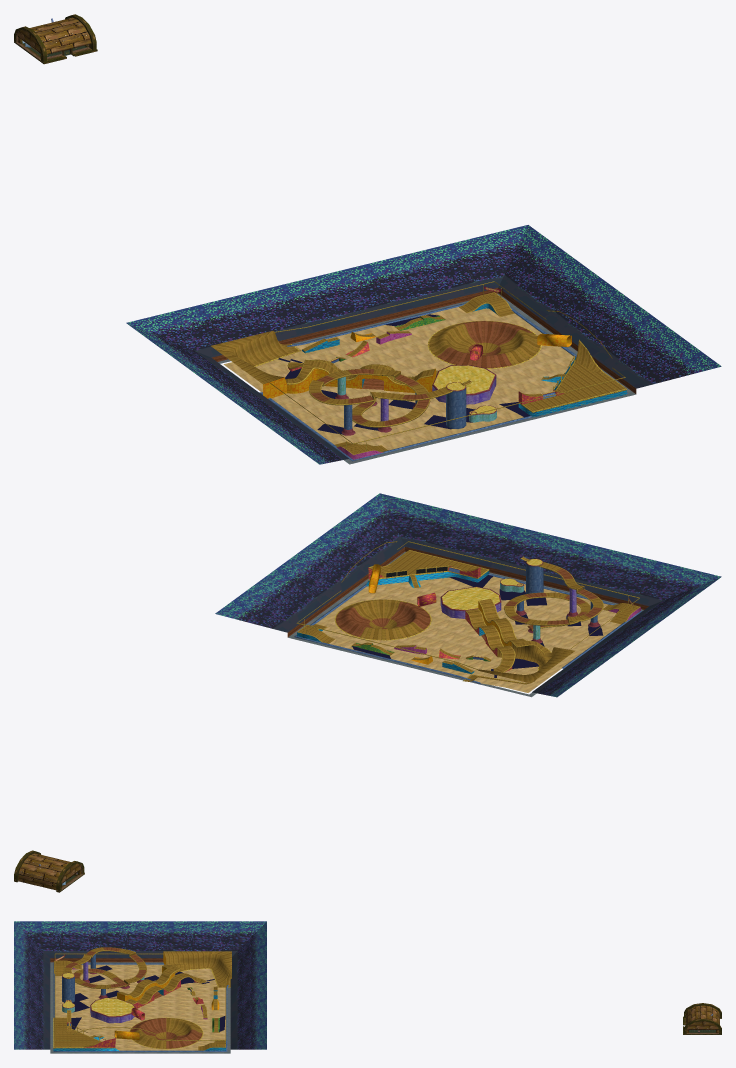
Rendered from [BF9A66FD] sp01_skatepark0.glb.
3 renders of one model, top to bottom at view 1: azimuth 30°, elevation 25°; view 2: azimuth 150°, elevation 25°; view 3: azimuth 270°, elevation 25°, orthographic. The views are drawn at different scales.
Visible parts, largest first — view 1: Object_0; view 2: Object_0; view 3: Object_0.
Part boxes in pixels (box(x1,y1,x2,y2)): Object_0: box(14, 14, 721, 464); Object_0: box(14, 493, 721, 892); Object_0: box(14, 921, 721, 1053).
Bounding box in the file's own units: 225 × 26.63 × 525.
57 materials, 55 textured.
